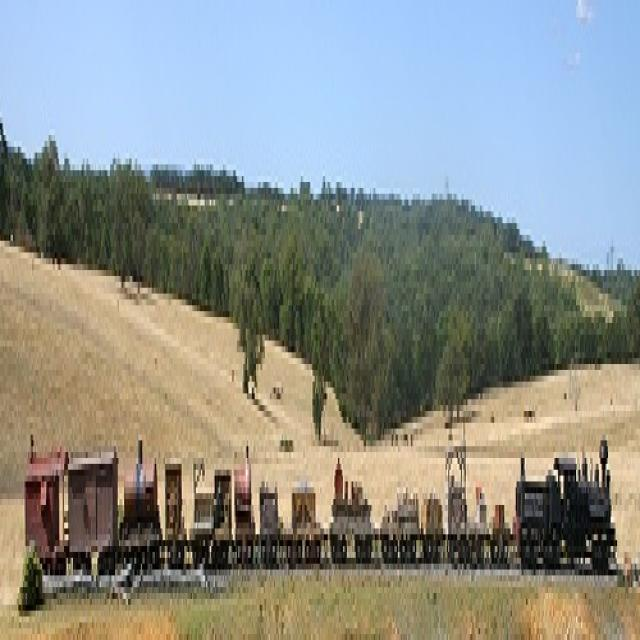train: (23, 423, 618, 599)
